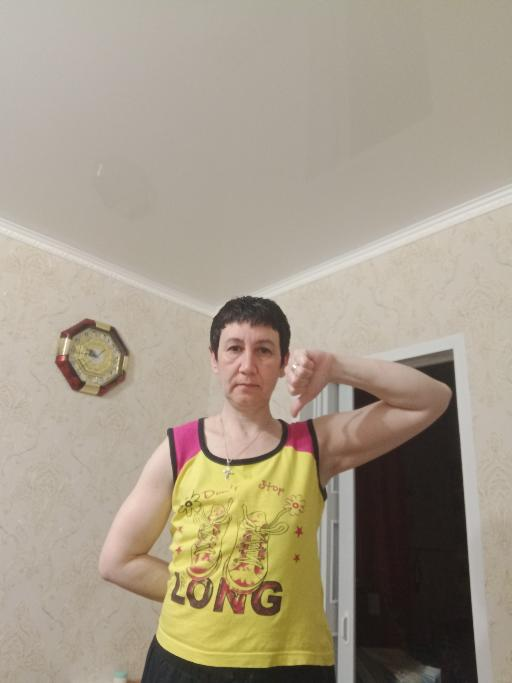dislike: (281, 341, 339, 428)
